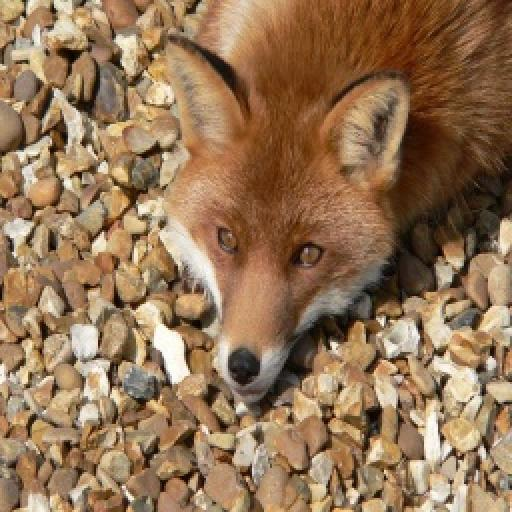zorro: (166, 0, 510, 402)
